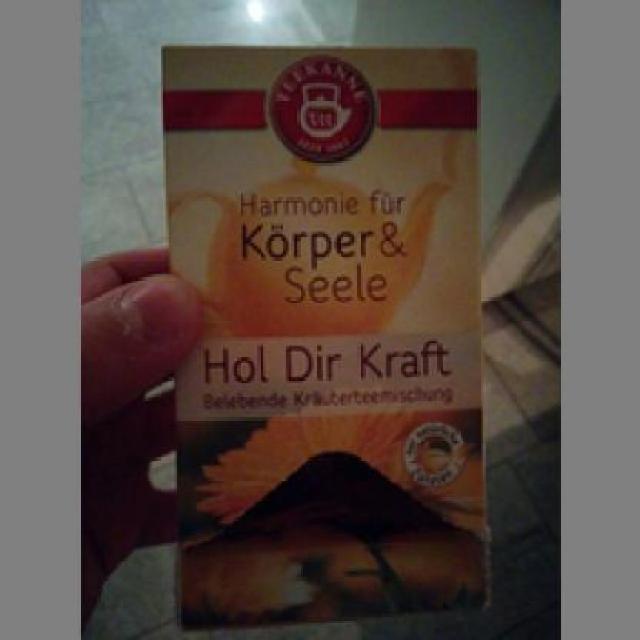Tea: (156, 39, 489, 632)
